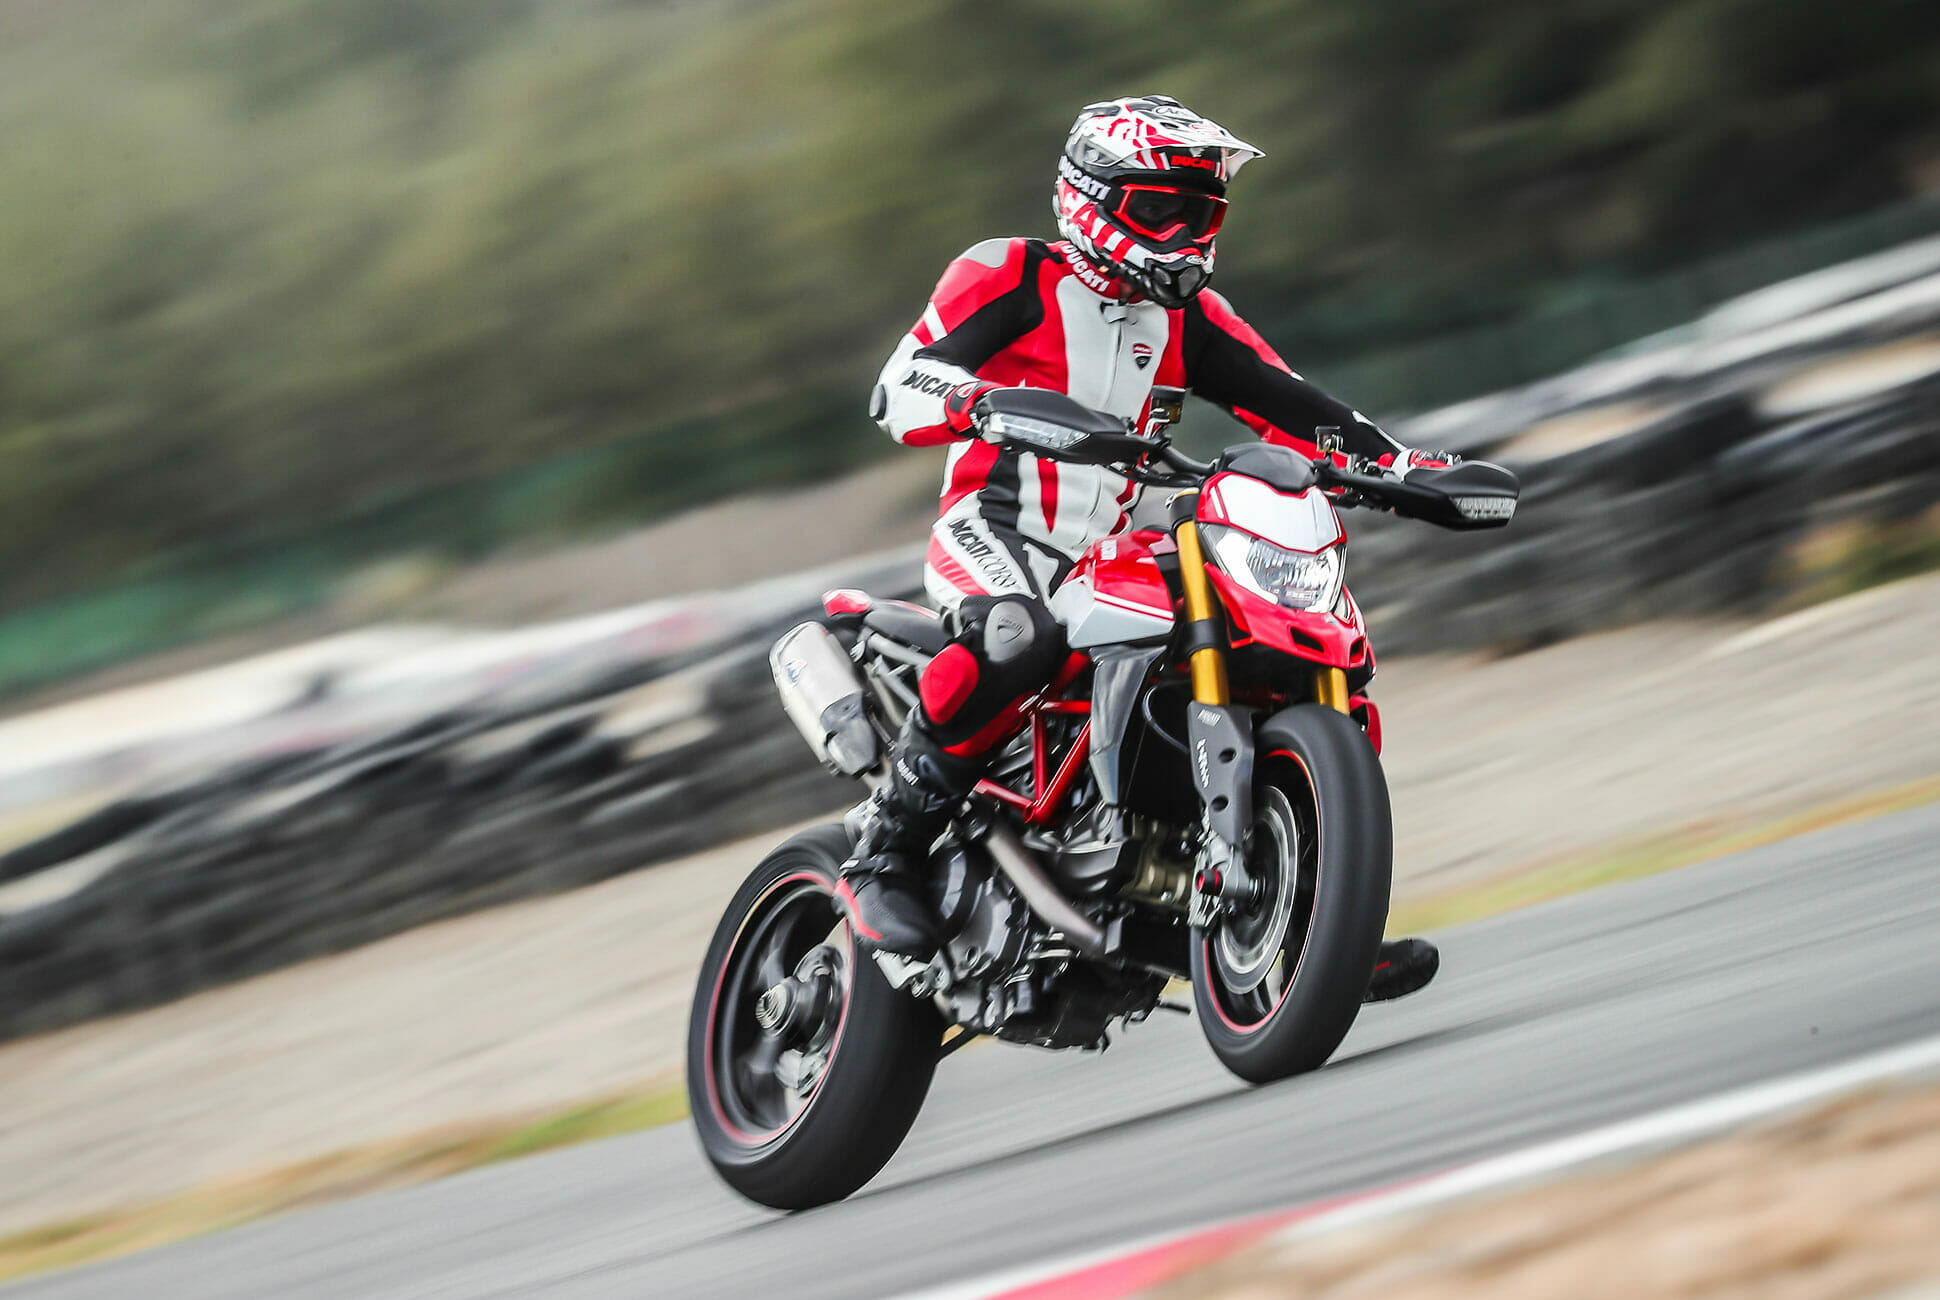helmet: (1056, 86, 1265, 316)
motorcycle: (673, 389, 1528, 1216)
